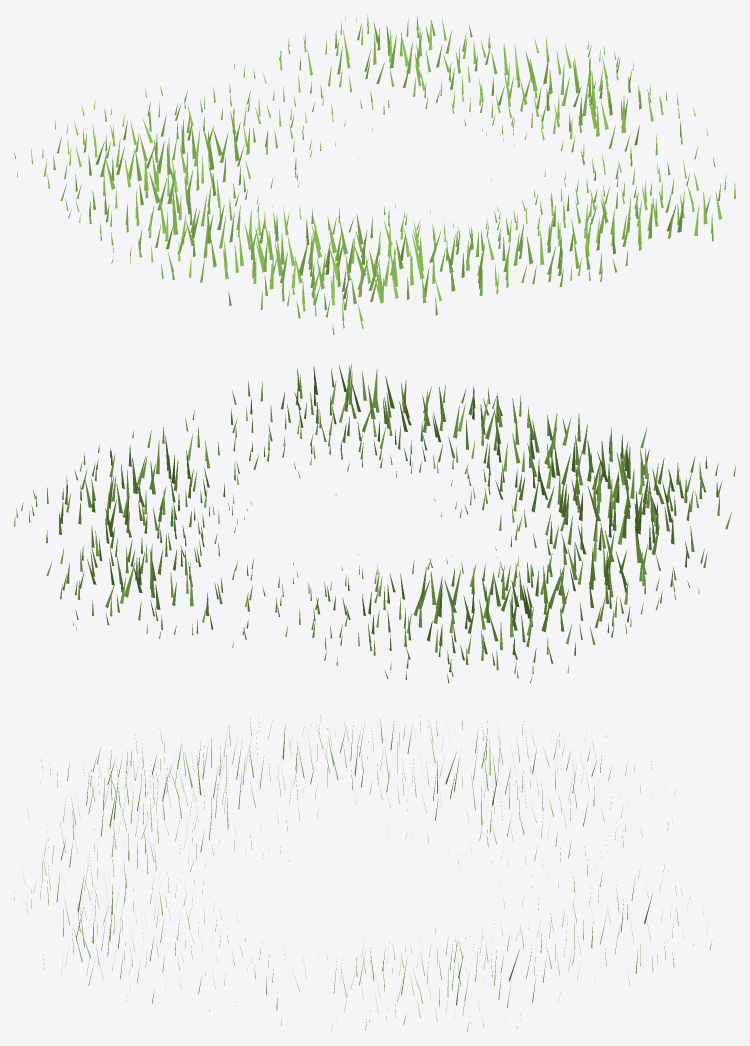
Rendered from grass-g.fbx.
The picture shows the model from 3 angles, top to bottom: view 1: azimuth 30°, elevation 25°; view 2: azimuth 150°, elevation 25°; view 3: azimuth 270°, elevation 25°; orthographic projection. The views are drawn at different scales.
Bounding box in the file's own units: 1364 × 84.12 × 1329.
